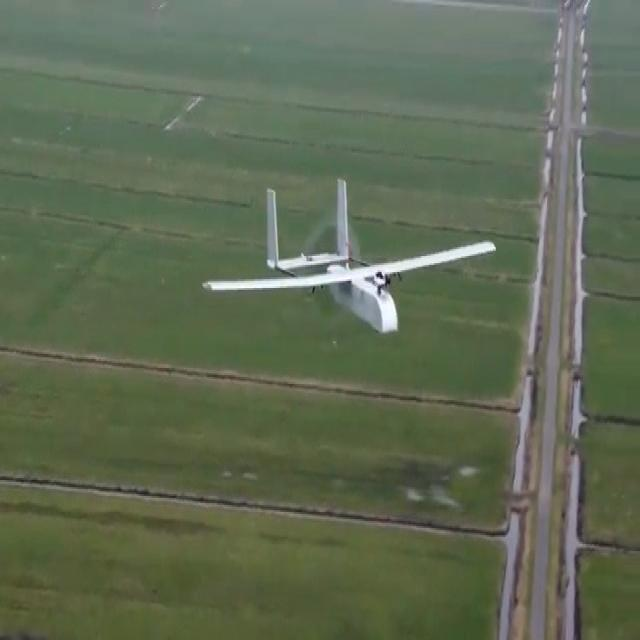iha: (204, 170, 501, 345)
